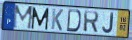D: (65, 8, 82, 33)
J: (102, 12, 115, 35)
K: (50, 8, 65, 33)
M: (12, 5, 35, 31), (31, 6, 50, 31)
R: (83, 11, 100, 34)
